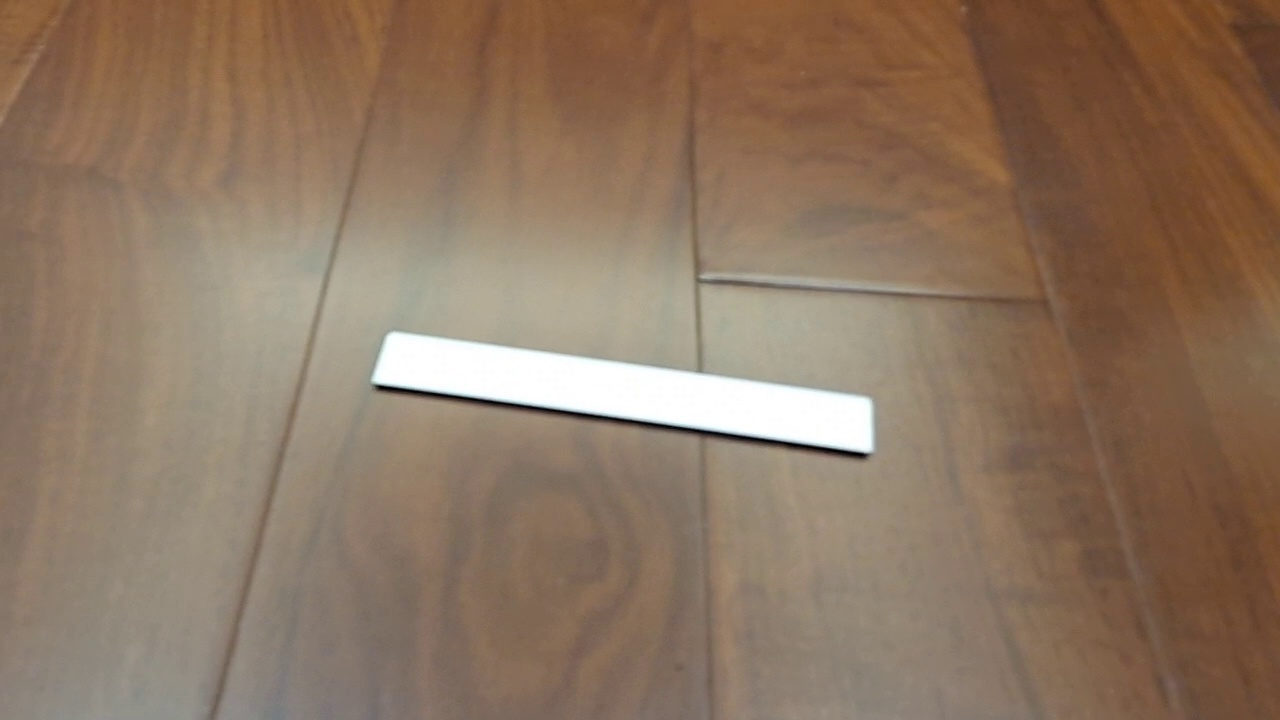ruler: (368, 328, 876, 458)
